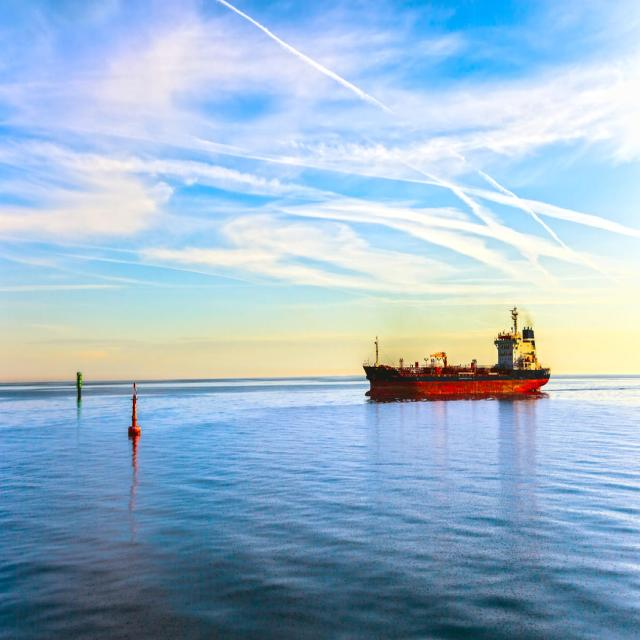buoy: (125, 382, 144, 442), (73, 371, 86, 399)
cargoship: (356, 302, 552, 404)
